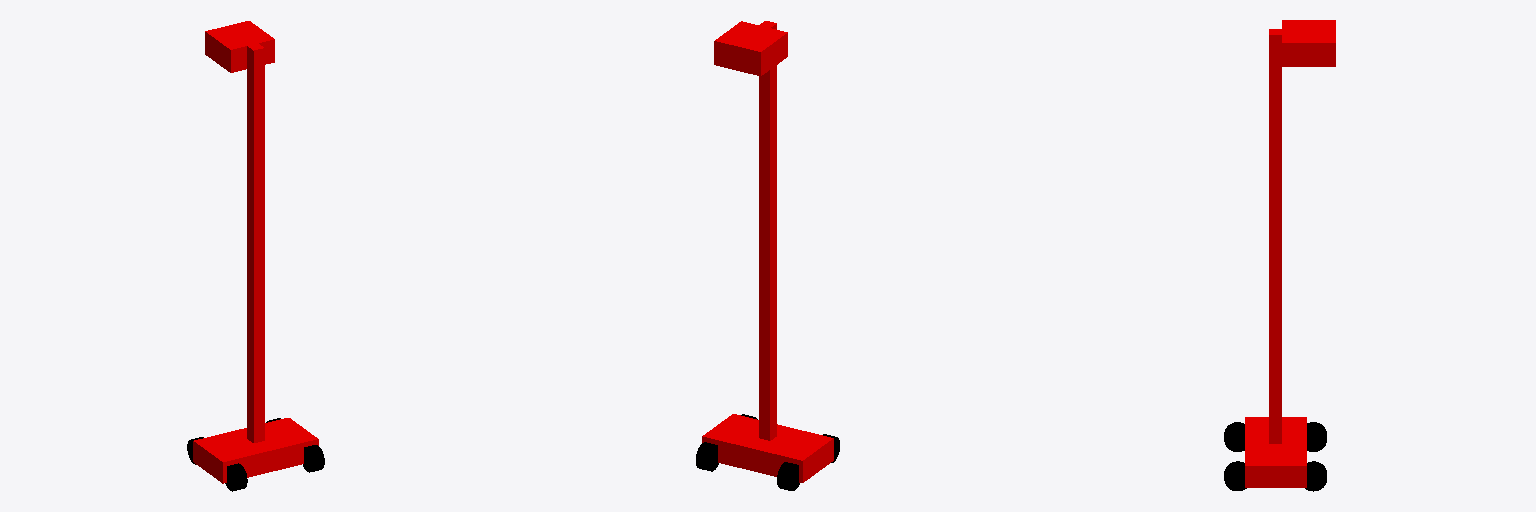
The robot description file, URDF, robot "tortoisebot":
<?xml version="1.0"?>
<robot name="tortoisebot">

  <link name="base_link">
    <visual>
      <geometry>
        <box size="0.432 0.231 0.0925"/>
      </geometry>
      <material name="silver">
        <color rgba="1.0 0.0 0.0 1"/>
      </material>
    </visual>
    <collision>
      <geometry>
        <box size="0.432 0.231 0.0925"/>
      </geometry>
    </collision>
    <inertial>
      <mass value="20"/>
      <inertia ixx="0.1464" iyy="0.17999" izz="0.04644" ixy="0" ixz="0" iyz="0"/>
    </inertial>
  </link>

  <link name="lift">
    <visual>
      <geometry>
        <box size="0.05 0.05 1.7"/>
      </geometry>
      <material name="silver"/>
    </visual>
    <collision>
      <geometry>
        <box size="0.05 0.05 1.7"/>
      </geometry>
    </collision>
    <inertial>
      <mass value="6"/>
      <inertia ixx="1.4463" iyy="0.0025" izz="1.4463" ixy="0" ixz="0" iyz="0"/>
    </inertial>
  </link>

  <joint name="lift_joint" type="fixed">
    <axis xyz="0 0 1"/>
    <parent link="base_link"/>
    <child link="lift"/>
    <origin rpy="0 0 0" xyz="0 0 0.89"/>
  </joint>
  
  
   <link name="card_holder">
    <visual>
      <geometry>
        <box size="0.2 0.2 0.1"/>
      </geometry>
      <material name="silver"/>
    </visual>
    <collision>
      <geometry>
        <box size="0.2 0.2 0.1"/>
      </geometry>
    </collision>
    <inertial>
      <mass value="0.5"/>
      <inertia ixx="0.00208" iyy="0.033333" izz="0.00208" ixy="0" ixz="0" iyz="0"/>
    </inertial>
  </link>

  <joint name="card_holder_joint" type="fixed">
    <axis xyz="0 0 1"/>
    <parent link="lift"/>
    <child link="card_holder"/>
    <origin rpy="0 0 0" xyz="0 0.125 0.8"/>
  </joint>



  <link name="back_right_wheel">
    <visual>
      <geometry>
        <cylinder length="0.05" radius="0.0508"/>
      </geometry>
      <material name="black">
        <color rgba="0 0 0 1"/>
      </material>
    </visual>
    <collision>
      <geometry>
        <cylinder length="0.05" radius="0.0508"/>
      </geometry>
    </collision>
    <inertial>
      <mass value="0.05"/>
      <inertia ixx="0.000042675" iyy="0.000042675" izz="0.000064516" ixy="0" ixz="0" iyz="0"/>
    </inertial>
  </link>

  <joint name="back_right_wheel_joint" type="continuous">
    <axis xyz="0 0 1"/>
    <parent link="base_link"/>
    <child link="back_right_wheel"/>
    <origin rpy="-1.5708 0 1.5708" xyz="-0.1742 -0.142 -.0178"/>
  </joint>

  <link name="front_right_wheel">
    <visual>
      <geometry>
        <cylinder length="0.05" radius="0.0508"/>
      </geometry>
      <material name="black">
        <color rgba="0 0 0 1"/>
      </material>
    </visual>
    <collision>
      <geometry>
        <cylinder length="0.05" radius="0.0508"/>
      </geometry>
    </collision>
    <inertial>
      <mass value="0.05"/>
      <inertia ixx="0.000042675" iyy="0.000042675" izz="0.000064516" ixy="0" ixz="0" iyz="0"/>
    </inertial>
  </link>

  <joint name="front_right_wheel_joint" type="continuous">
    <axis xyz="0 0 1"/>
    <parent link="base_link"/>
    <child link="front_right_wheel"/>
    <origin rpy="-1.5708 0 1.5708" xyz="0.1742 -0.142 -.0178"/>
  </joint>

  <link name="back_left_wheel">
    <visual>
      <geometry>
        <cylinder length="0.05" radius="0.0508"/>
      </geometry>
      <material name="black"/>
    </visual>
    <collision>
      <geometry>
        <cylinder length="0.05" radius="0.0508"/>
      </geometry>
    </collision>
    <inertial>
      <mass value="0.05"/>
      <inertia ixx="0.000042675" iyy="0.000042675" izz="0.000064516" ixy="0" ixz="0" iyz="0"/>
    </inertial>
  </link>

  <joint name="back_left_wheel_joint" type="continuous">
    <axis xyz="0 0 1"/>
    <parent link="base_link"/>
    <child link="back_left_wheel"/>
    <origin rpy="-1.5708 0 1.5708" xyz="-0.1742 0.142 -.0178"/>
  </joint>



<link name="front_left_wheel">
    <visual>
      <geometry>
        <cylinder length="0.05" radius="0.0508"/>
      </geometry>
      <material name="black"/>
    </visual>
    <collision>
      <geometry>
        <cylinder length="0.05" radius="0.0508"/>
      </geometry>
    </collision>
    <inertial>
      <mass value="0.05"/>
      <inertia ixx="0.000042675" iyy="0.000042675" izz="0.000064516" ixy="0" ixz="0" iyz="0"/>
    </inertial>
  </link>

  <joint name="front_left_wheel_joint" type="continuous">
    <axis xyz="0 0 1"/>
    <parent link="base_link"/>
    <child link="front_left_wheel"/>
    <origin rpy="-1.5708 0 1.5708" xyz="0.1742 0.142 -.0178"/>
  </joint>

  <gazebo>
    <plugin name="differential_drive_controller" filename="libgazebo_ros_diff_drive.so">
      <leftJoint>back_right_wheel_joint</leftJoint>
      <rightJoint>back_left_wheel_joint</rightJoint>
      <robotBaseFrame>base_link</robotBaseFrame>
      <wheelSeparation>0.25</wheelSeparation>
      <wheelDiameter>0.07</wheelDiameter>
      <publishWheelJointState>true</publishWheelJointState>
    </plugin>
  </gazebo>
</robot>

--- What the picture shows (computed from the rendered views, not written in the file) ---
Views: 3 orthographic renders of the robot side by side, from view 1: azimuth 30°, elevation 25°; view 2: azimuth 150°, elevation 25°; view 3: azimuth 270°, elevation 25°.
Robot: tortoisebot — 7 links, 6 joints (4 continuous, 2 fixed); root link base_link; default pose: every joint at zero.
Links seen in each view (by area): view 1: lift, base_link, card_holder; view 2: lift, base_link, card_holder, front_left_wheel, back_left_wheel; view 3: lift, base_link, card_holder, back_right_wheel, front_right_wheel, front_left_wheel, back_left_wheel.
Boxes of the visible links, <box> form: lift: <box>247,43,264,442</box>; base_link: <box>193,418,318,483</box>; card_holder: <box>205,21,274,72</box>; lift: <box>759,21,776,440</box>; base_link: <box>702,414,833,482</box>; card_holder: <box>714,21,787,75</box>; front_left_wheel: <box>696,442,718,471</box>; back_left_wheel: <box>777,462,799,490</box>; lift: <box>1269,29,1281,443</box>; base_link: <box>1245,417,1306,487</box>; card_holder: <box>1282,20,1335,66</box>; back_right_wheel: <box>1224,422,1244,451</box>; front_right_wheel: <box>1224,461,1246,490</box>; front_left_wheel: <box>1305,461,1326,491</box>; back_left_wheel: <box>1307,422,1326,451</box>.
Size in the robot's own frame: 0.432 by 0.4178 by 1.81 metres.
Geometry: primitives only (box / cylinder / sphere), no mesh files.